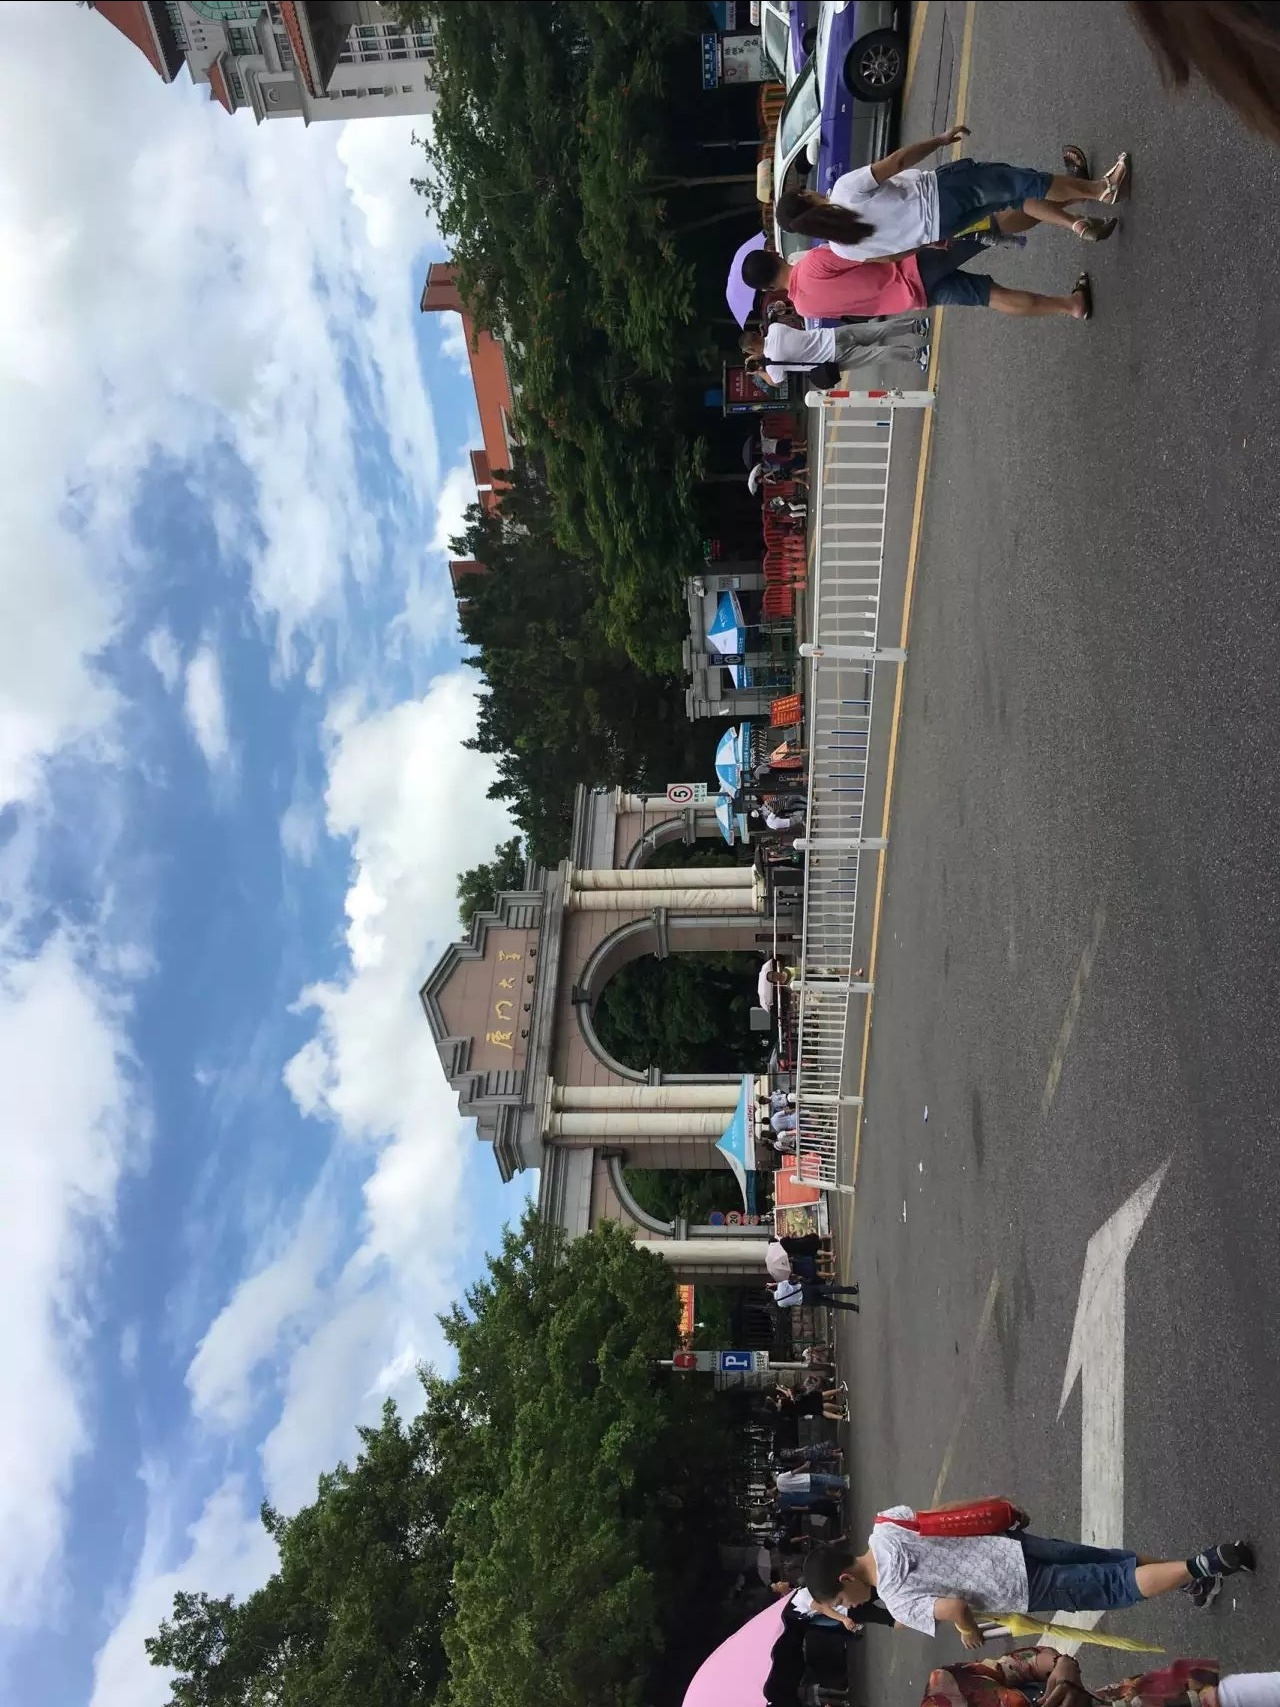man: (800, 1508, 1251, 1638), (785, 148, 1135, 245), (752, 237, 1101, 321), (730, 313, 939, 402), (737, 1435, 856, 1504), (760, 956, 869, 1000), (757, 1372, 862, 1417), (759, 1276, 864, 1314), (744, 455, 815, 504)
xmu: (463, 921, 532, 1096)
